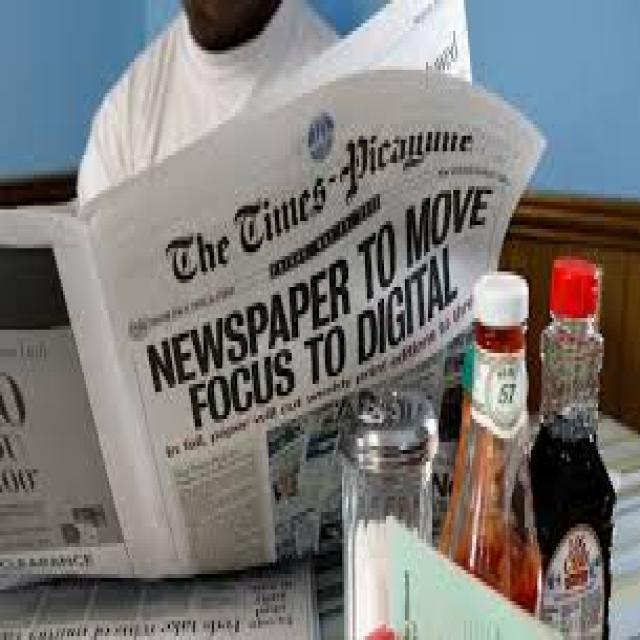Glass: (527, 237, 617, 632), (449, 268, 544, 632), (327, 372, 447, 632)
Newspaper: (0, 0, 550, 585), (0, 554, 327, 636)
